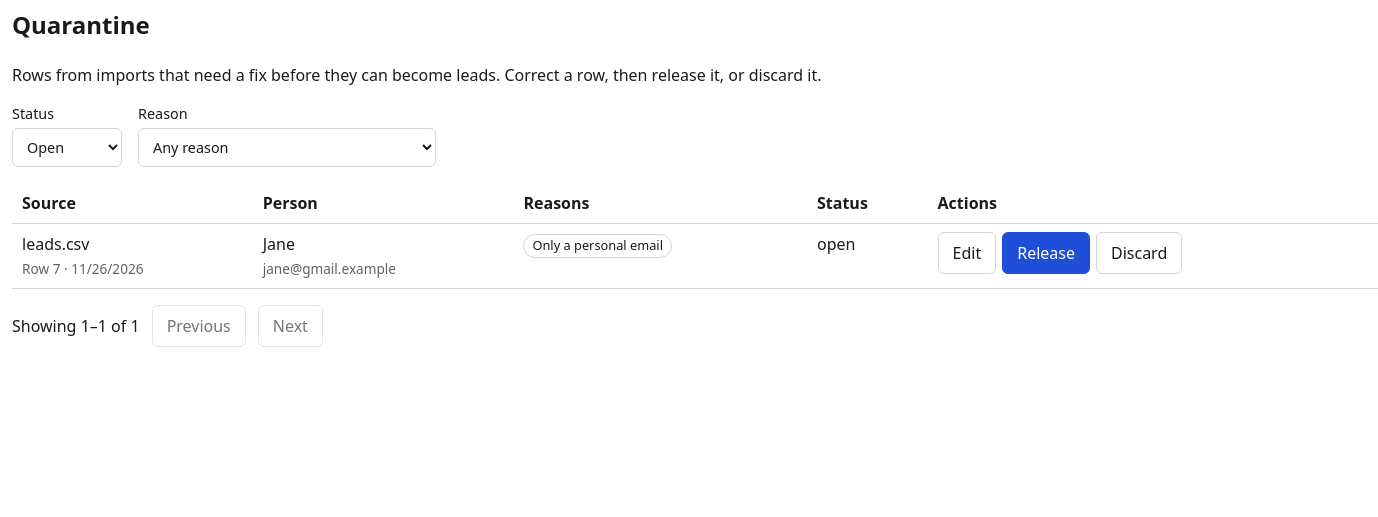
Test: edit › saves only the changed field and shows what is still to fix
The width and height of the screenshot is (1378, 517).
Expected: the text "leads.csv" is shown, [22,233,89,255]
Step 1. Click the button with aria-label "Edit row 7 of leads.csv" → x=967, y=253, box [938,232,996,274]
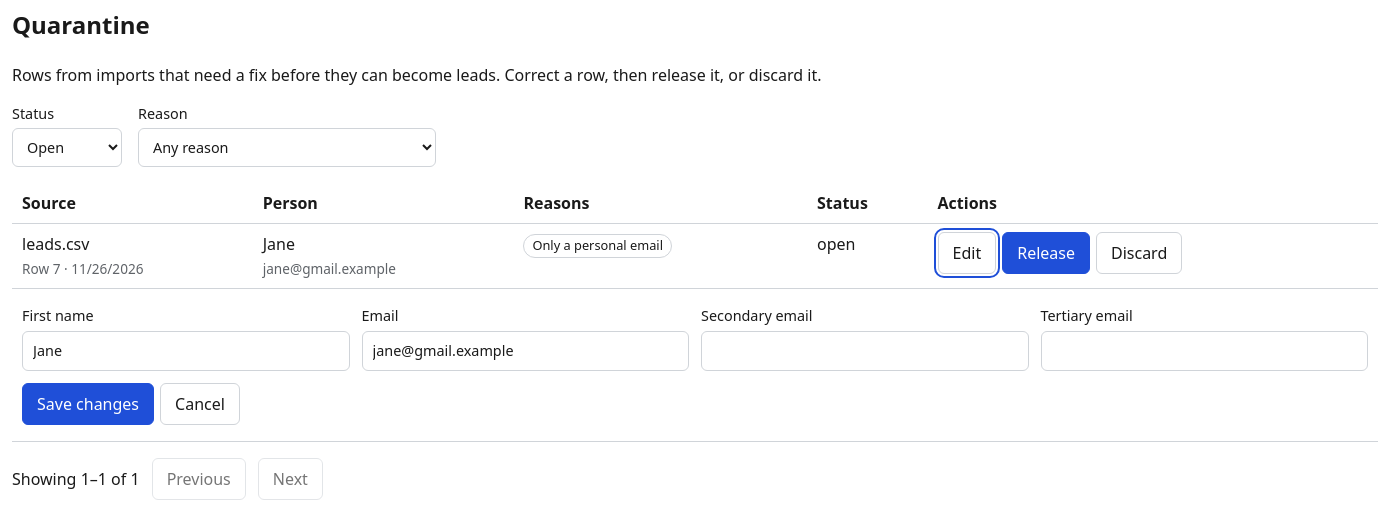
Step 2. Replace the text in the field labelled "Email" with "jane@acme.example" → x=525, y=351, box [362,331,689,371]
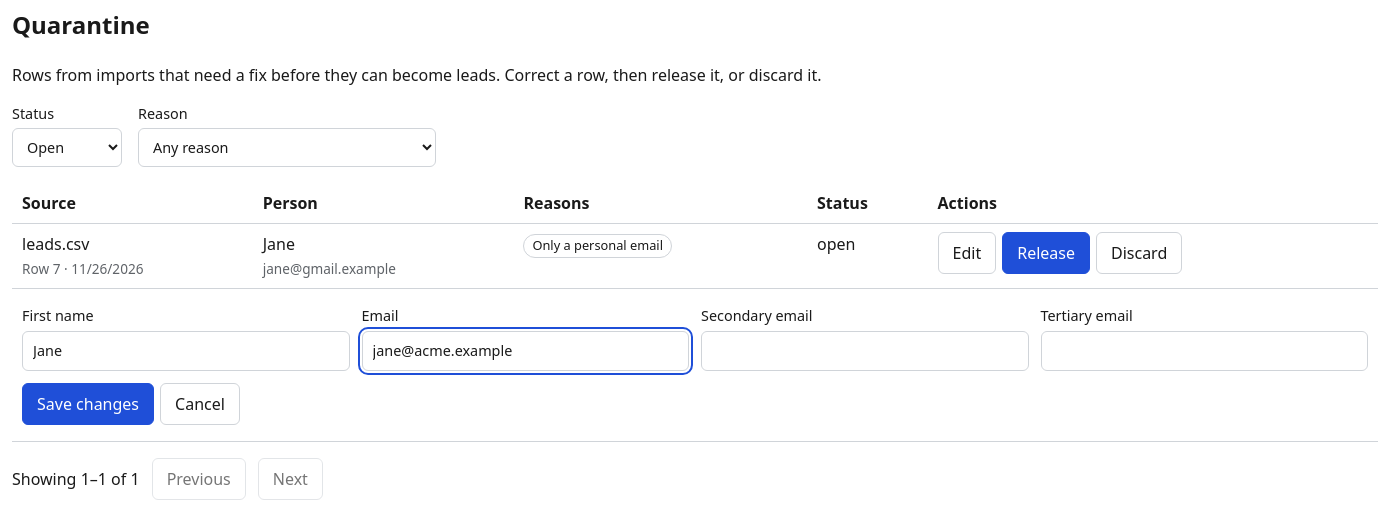
Step 3. Click the button "Save changes" → x=88, y=404, box [22,383,154,425]
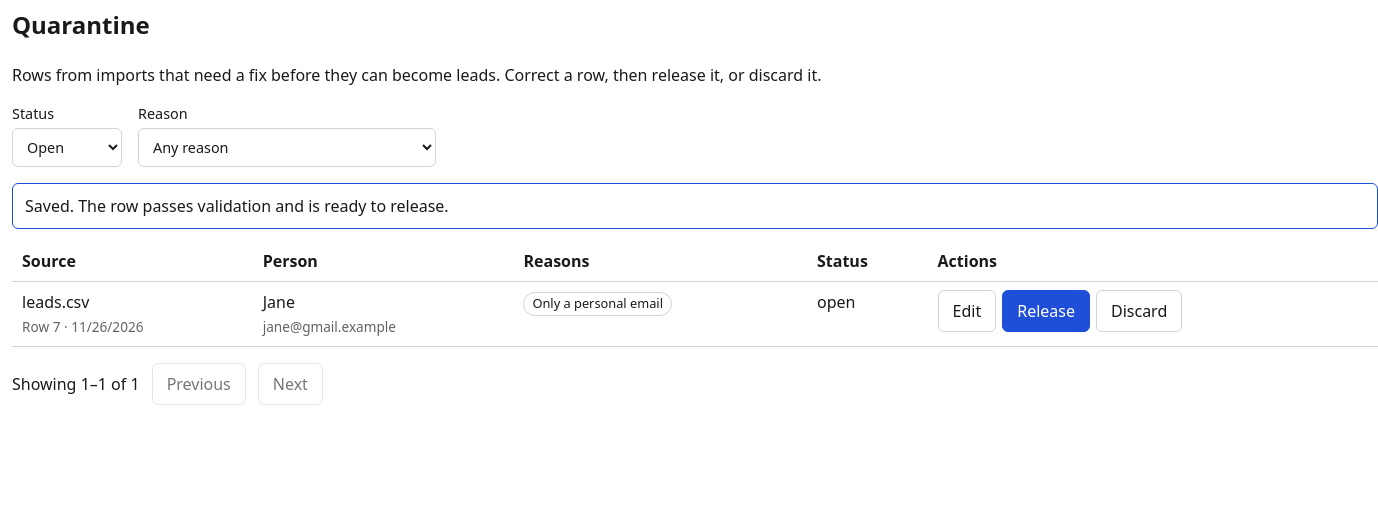
Expected: the text "Saved. The row passes validation and is ready to release." is shown, [12,183,1377,229]
